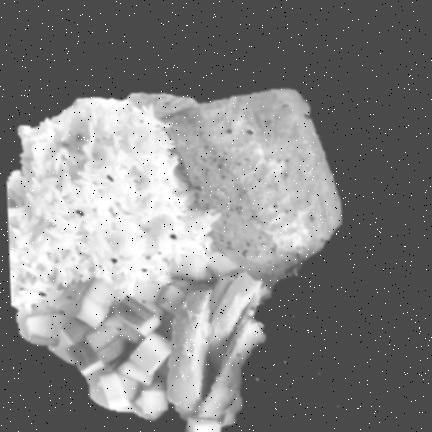cucumber: (23, 253, 267, 431)
fish: (137, 89, 341, 287)
rice: (7, 98, 214, 316)
